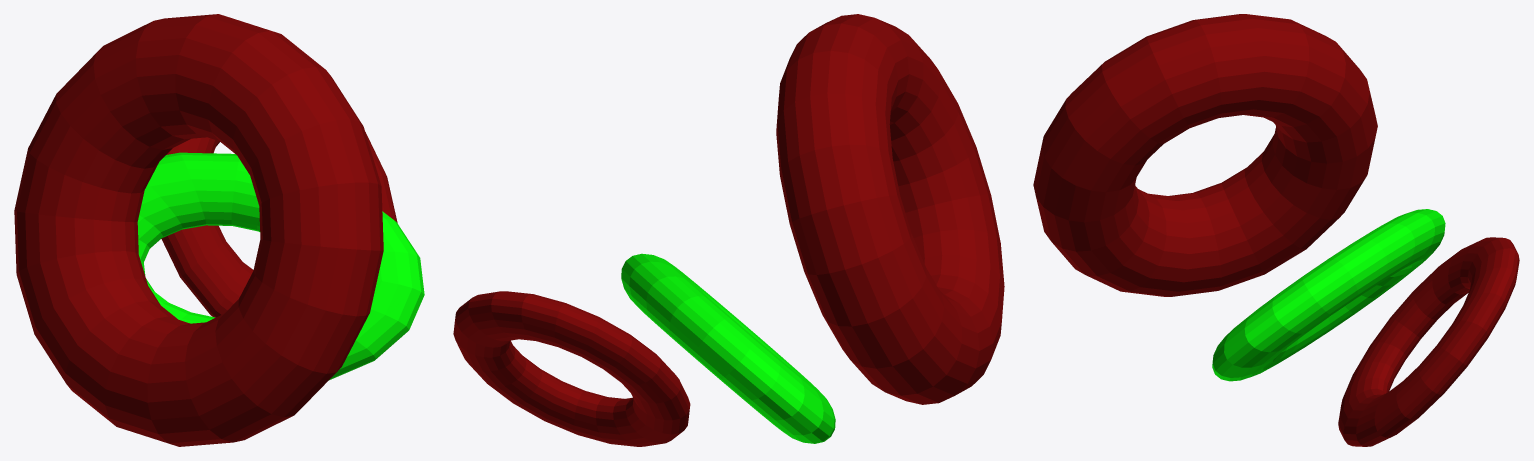
Rendered from effect_blinn_transparent_param.dae.
3 views of the same model, side by side, from view 1: azimuth 30°, elevation 25°; view 2: azimuth 150°, elevation 25°; view 3: azimuth 270°, elevation 25° (orthographic). The views are drawn at different scales.
Visible parts, largest first — view 1: pTorus3, pTorus1, pTorus2; view 2: pTorus3, pTorus2, pTorus1; view 3: pTorus3, pTorus2, pTorus1.
Part boxes in pixels (x1,y1,x2,y2): pTorus3: (14,14,383,446); pTorus1: (137,152,424,380); pTorus2: (161,132,397,317); pTorus3: (776,14,1004,404); pTorus2: (453,291,690,446); pTorus1: (621,253,835,443); pTorus3: (1033,14,1377,296); pTorus2: (1338,237,1519,446); pTorus1: (1212,209,1445,381).
Size of the model in its own units: 308 by 283 by 357.
